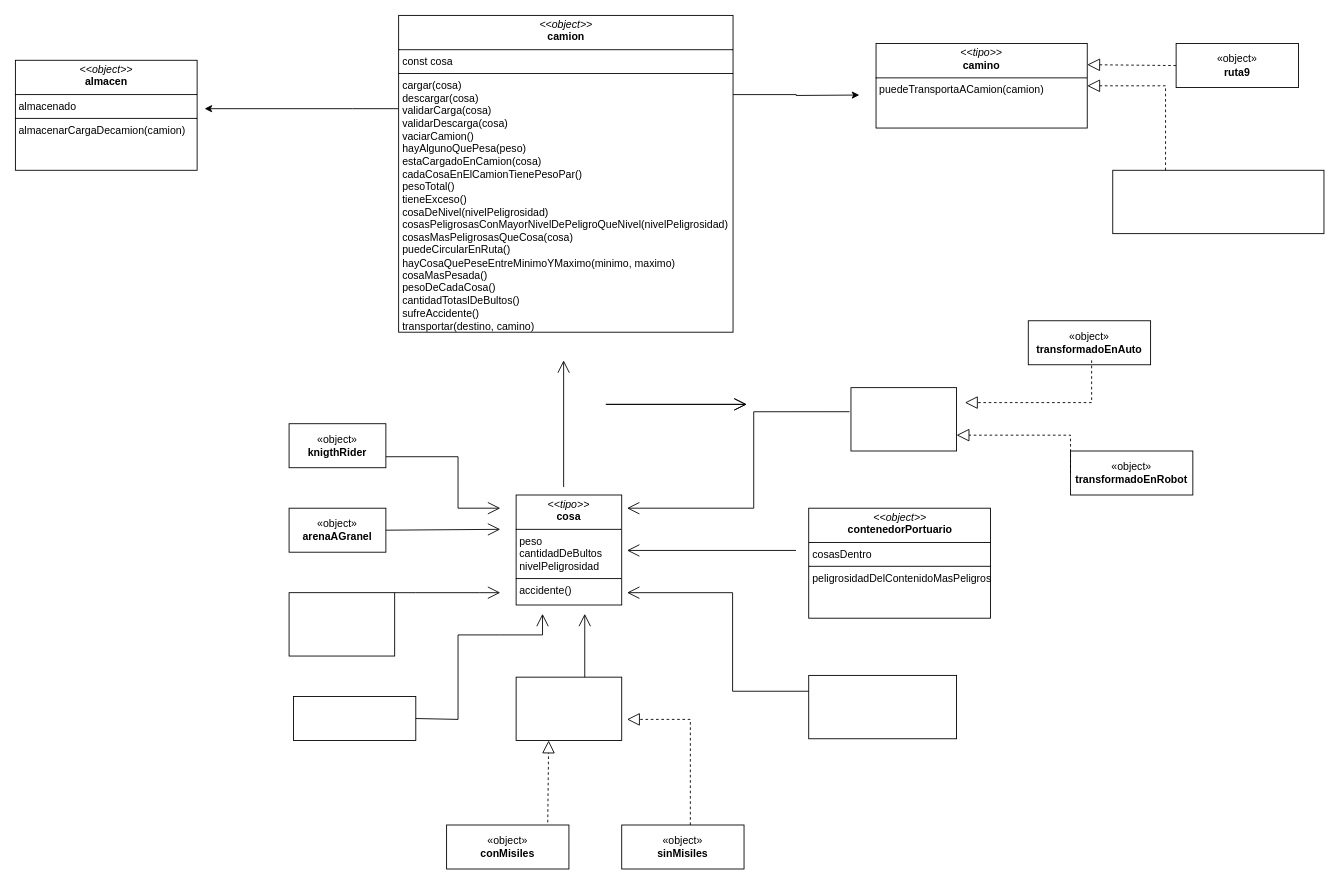
This 1339x884 diagram has some shape labels left out. The box of each missing label's shape, as (x1, y1, x2, y2) in pixels:
<<object>> bateriaAntiaerea misiles cantidadDeMisilies: (515, 676, 622, 741)
<<object>> bumblebee transformase(): (850, 387, 957, 451)
<<object>> embalajeDeSeguridad envuelto: (808, 675, 957, 739)
<<object>> paqueteDeLadrillos ladrillos: (288, 592, 395, 656)
<<tipo>> caminosVecinales pesoMaximoPermitido: (1112, 169, 1324, 234)
«object» residuosRadioactivos: (293, 696, 416, 741)
